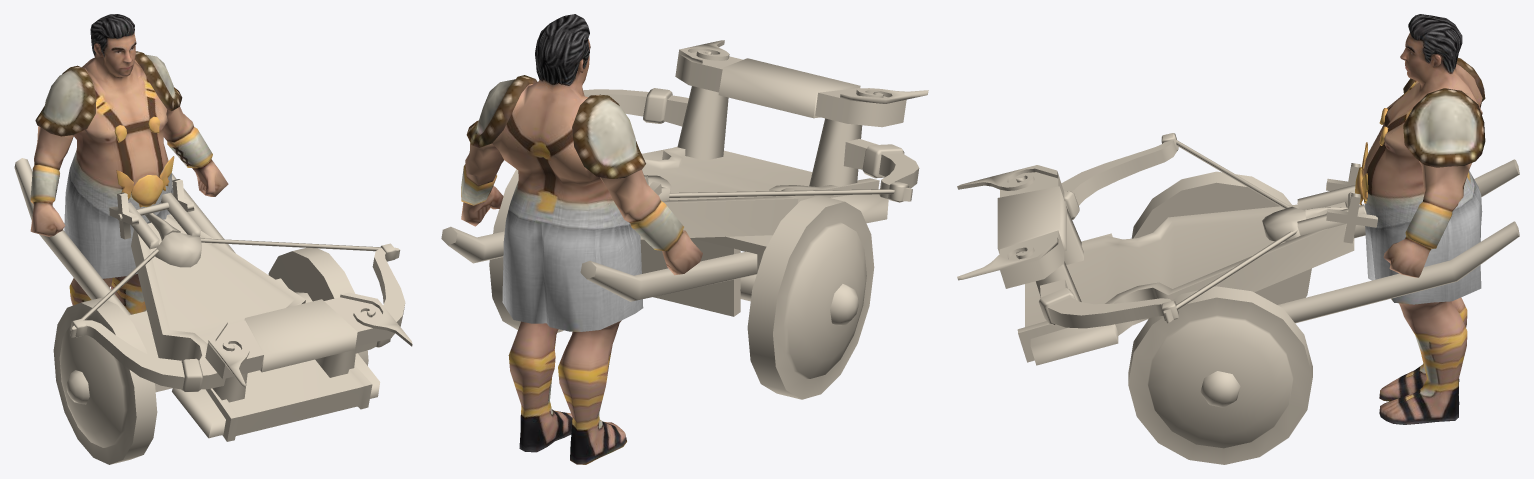
File: 89-cheiroballistahero.glb
3 renders of one model, left to right at view 1: azimuth 30°, elevation 25°; view 2: azimuth 150°, elevation 25°; view 3: azimuth 270°, elevation 25°, orthographic. The views are drawn at different scales.
Bounding box in the file's own units: 2.13 × 2.17 × 2.84.
2 materials, 1 textured.
